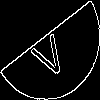V: (25, 24, 71, 82)
